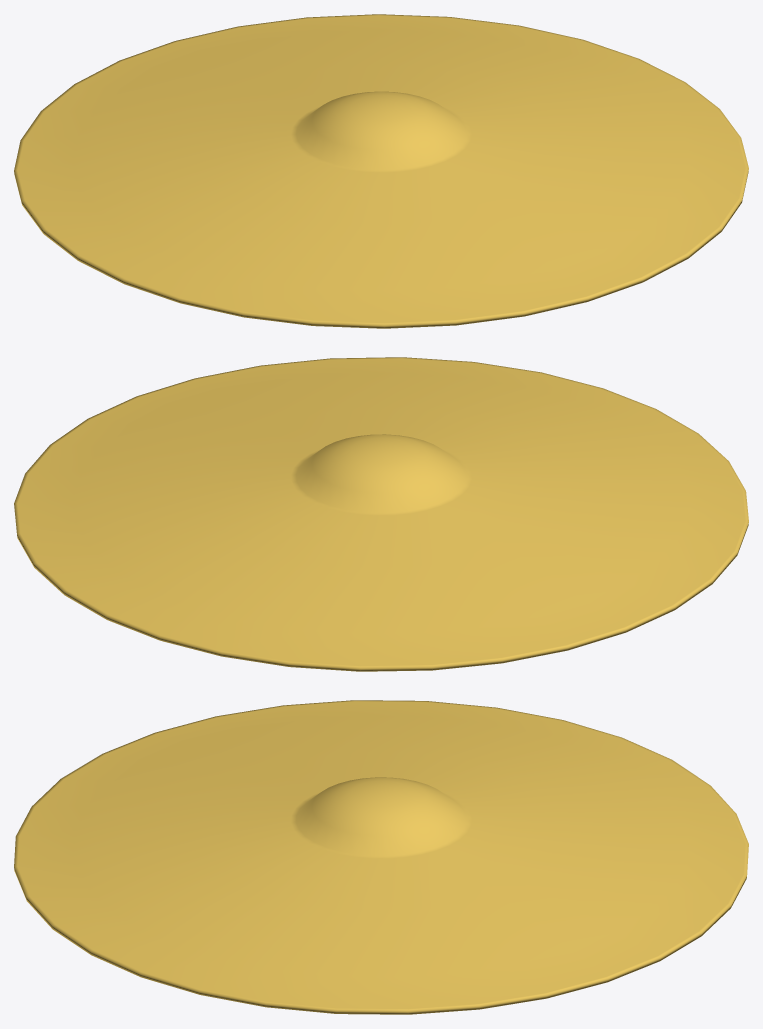
Rendered from HighHatWithSingle.fbx.
3 renders of one model, top to bottom at view 1: azimuth 30°, elevation 25°; view 2: azimuth 150°, elevation 25°; view 3: azimuth 270°, elevation 25°, orthographic.
Visible parts, largest first — view 1: Symbol.001; view 2: Symbol.001; view 3: Symbol.001.
Boxes of the visible parts, left/top/right/bottom form: Symbol.001: left=14, top=14, right=748, bottom=328; Symbol.001: left=14, top=357, right=748, bottom=671; Symbol.001: left=14, top=700, right=748, bottom=1014.
Bounding box in the file's own units: 36.42 × 3.73 × 36.42.
